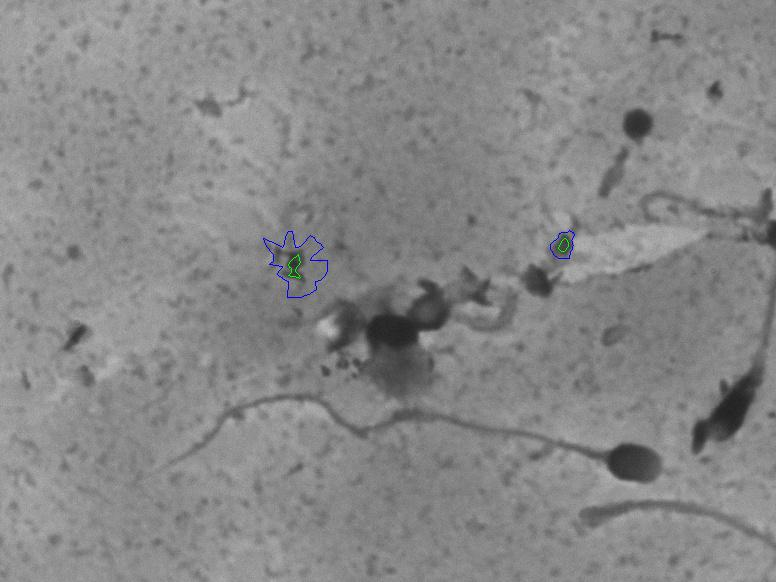Abnormal: (684, 301, 769, 466)
Normal: (144, 382, 673, 498)
